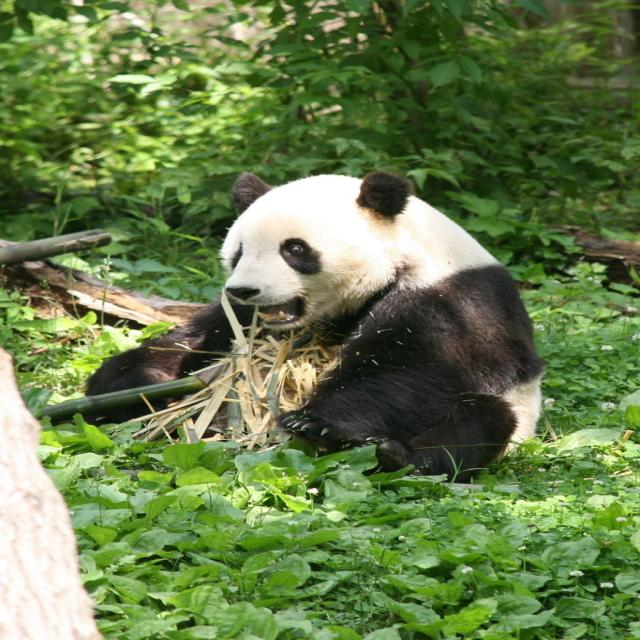panda: (44, 166, 546, 494)
